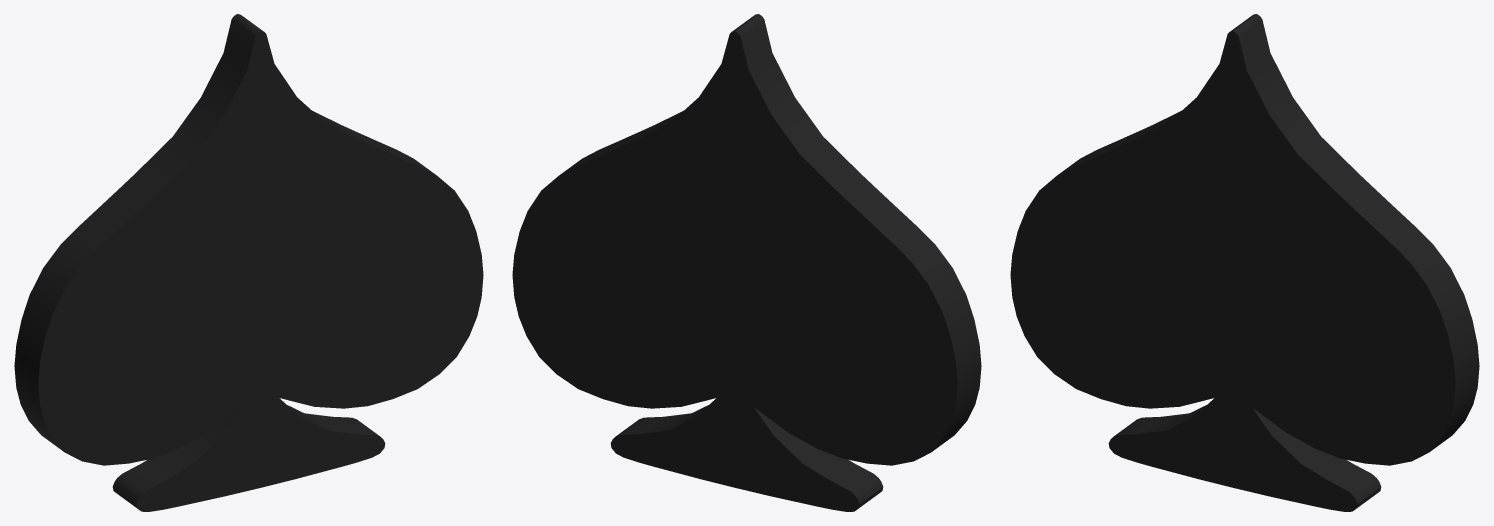
Rendered from spade_suit.glb.
3 views of the same model, side by side, from view 1: azimuth 30°, elevation 25°; view 2: azimuth 150°, elevation 25°; view 3: azimuth 330°, elevation 25° (orthographic).
Visible parts, largest first — view 1: Plane.313; view 2: Plane.313; view 3: Plane.313.
Boxes of the visible parts, <box> form: Plane.313: <box>14,14,483,511</box>; Plane.313: <box>512,14,981,511</box>; Plane.313: <box>1010,14,1479,511</box>.
Bounding box in the file's own units: 2.16 × 2.12 × 0.2.
1 material, 1 textured.
